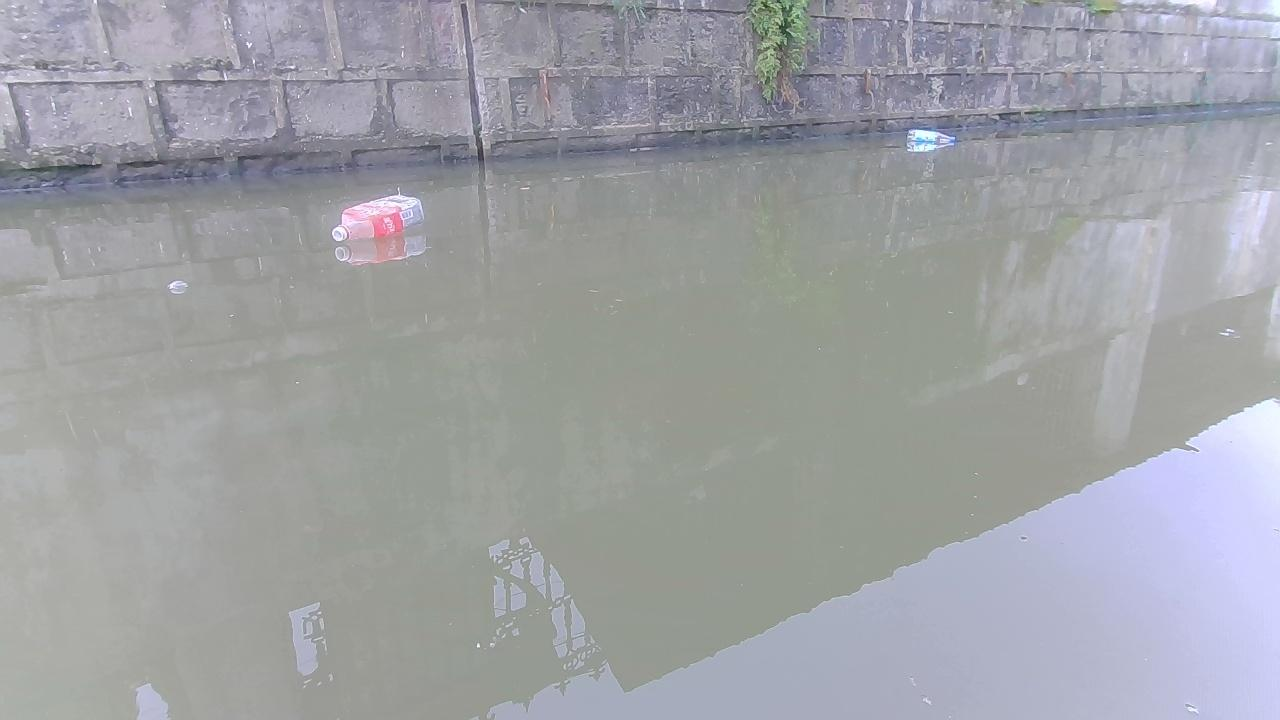bottle: (330, 192, 422, 241), (907, 127, 956, 146)
